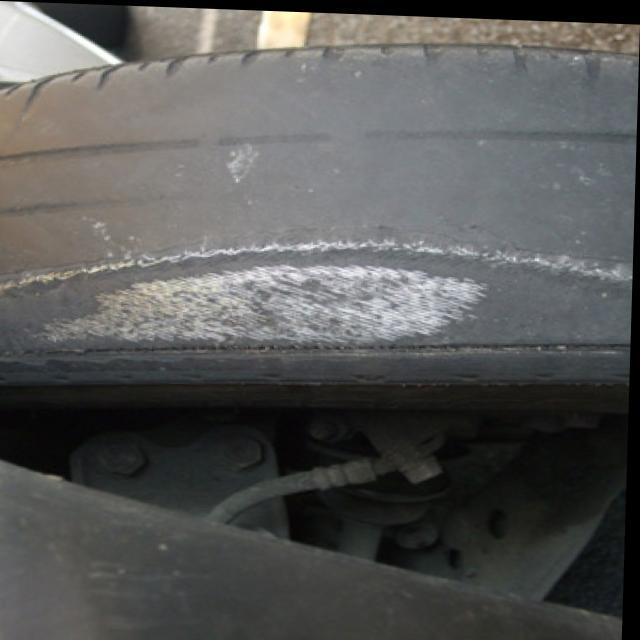Flat spots: (0, 46, 636, 419)
